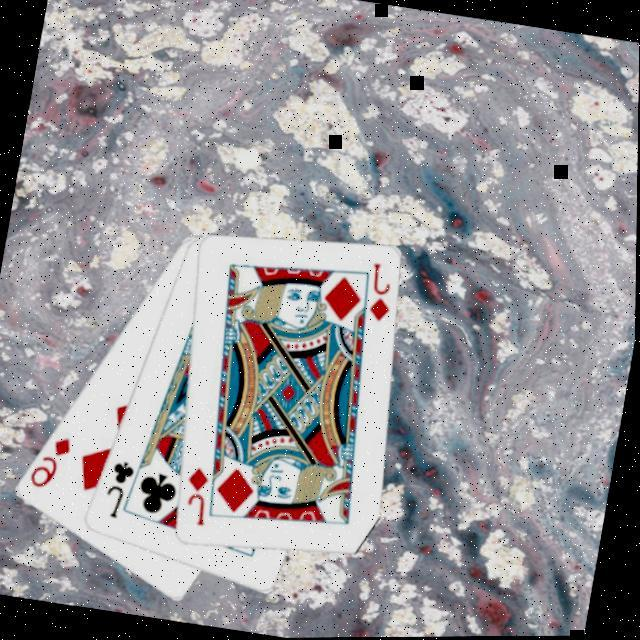9D: (23, 430, 75, 496)
JC: (97, 457, 138, 525)
JD: (175, 463, 216, 531), (359, 261, 399, 327)
